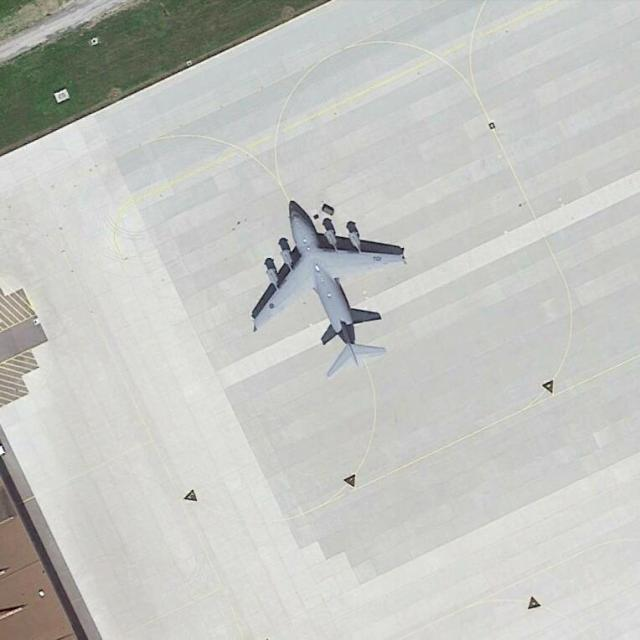fighter jet: (252, 202, 396, 374)
